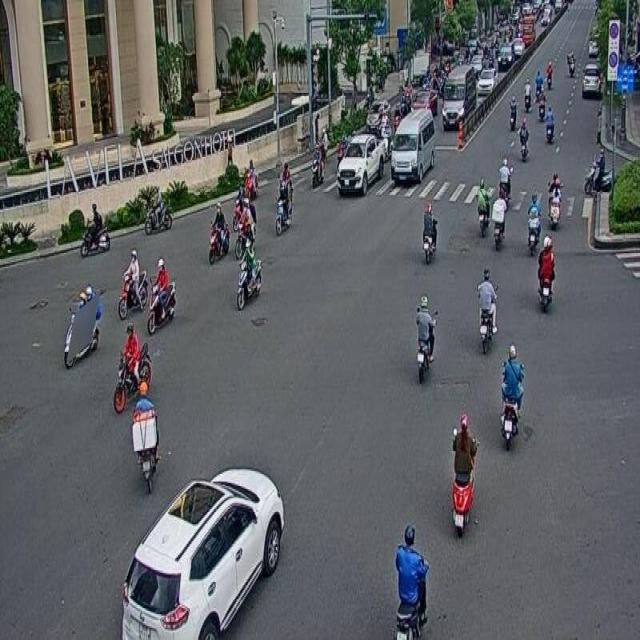car: (121, 465, 286, 640), (337, 133, 384, 195)
motorcycle: (391, 524, 428, 640), (448, 408, 477, 535), (113, 320, 152, 413), (132, 380, 163, 492), (65, 283, 99, 366), (500, 343, 524, 442), (147, 254, 176, 334), (118, 247, 148, 318), (236, 236, 264, 312), (476, 268, 497, 358), (414, 294, 435, 383), (80, 201, 110, 255), (537, 235, 556, 314), (207, 201, 229, 265), (145, 184, 172, 235), (234, 197, 256, 259), (275, 177, 293, 234), (491, 188, 507, 252), (421, 201, 436, 265), (526, 189, 541, 251), (546, 170, 562, 228), (475, 175, 490, 236), (497, 156, 512, 208)
truck: (390, 107, 436, 181)
